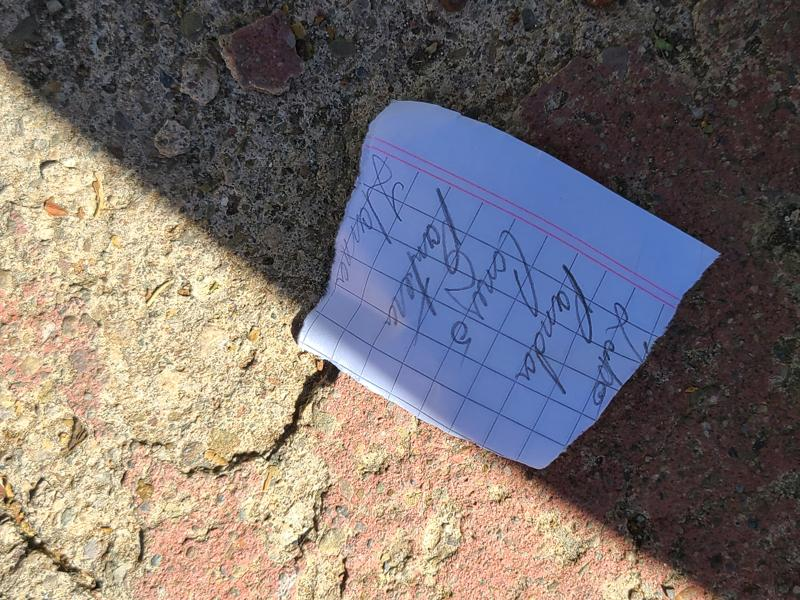papel: (293, 101, 718, 472)
